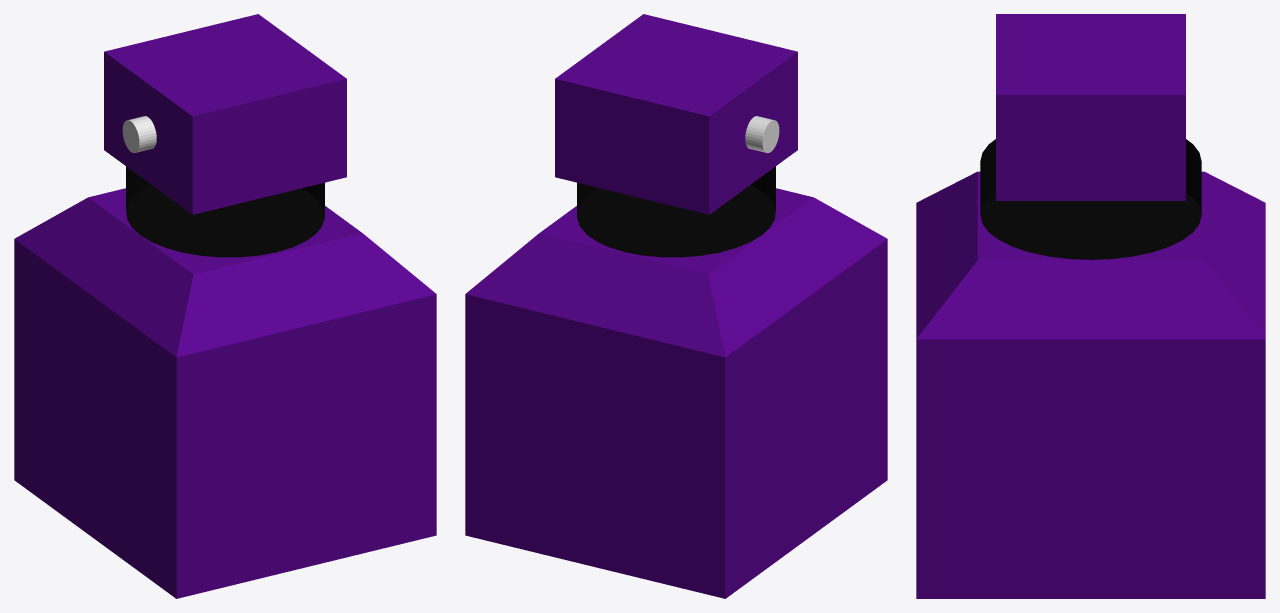
File: protectiontower3_3.fbx
3 renders of one model, left to right at view 1: azimuth 30°, elevation 25°; view 2: azimuth 150°, elevation 25°; view 3: azimuth 270°, elevation 25°, orthographic. The views are drawn at different scales.
Visible parts, largest first — view 1: Cube.001, Cube.002, Cylinder, Cylinder.001; view 2: Cube.001, Cube.002, Cylinder, Cylinder.001; view 3: Cube.001, Cube.002, Cylinder.
Boxes of the visible parts, bbox=[...] form: Cube.001: bbox=[14, 188, 436, 598]; Cube.002: bbox=[104, 14, 346, 214]; Cylinder: bbox=[126, 166, 324, 257]; Cylinder.001: bbox=[122, 116, 156, 152]; Cube.001: bbox=[465, 188, 887, 598]; Cube.002: bbox=[555, 14, 797, 214]; Cylinder: bbox=[577, 166, 775, 257]; Cylinder.001: bbox=[745, 116, 779, 152]; Cube.001: bbox=[916, 171, 1265, 598]; Cube.002: bbox=[996, 14, 1185, 200]; Cylinder: bbox=[980, 139, 1201, 259].
Bounding box in the file's own units: 711 × 1156 × 768.
